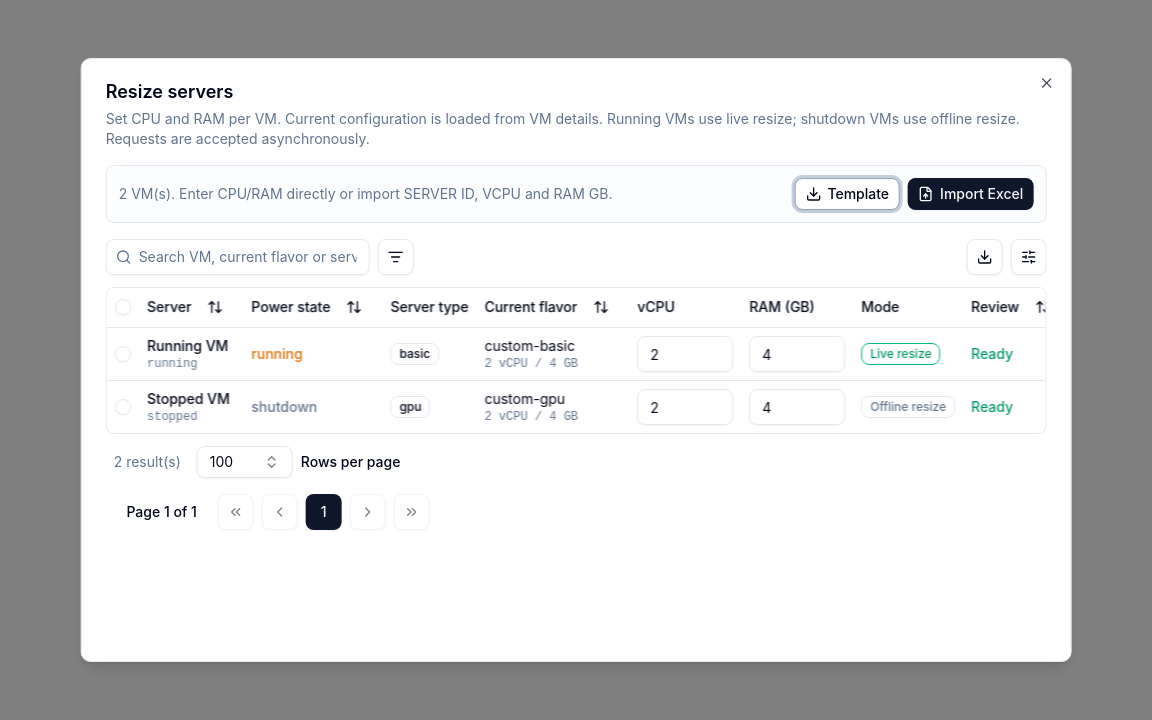
Test: submits custom specs with live and offline modes only after confirmation
Expected: the text "Live resize" is shown, [861,343,940,365]
Expected: the text "Offline resize" is shown, [861,396,955,418]
Replace the text in the number field named "ram for Running VM" with "6" at (797, 354), box [749,336,845,372]
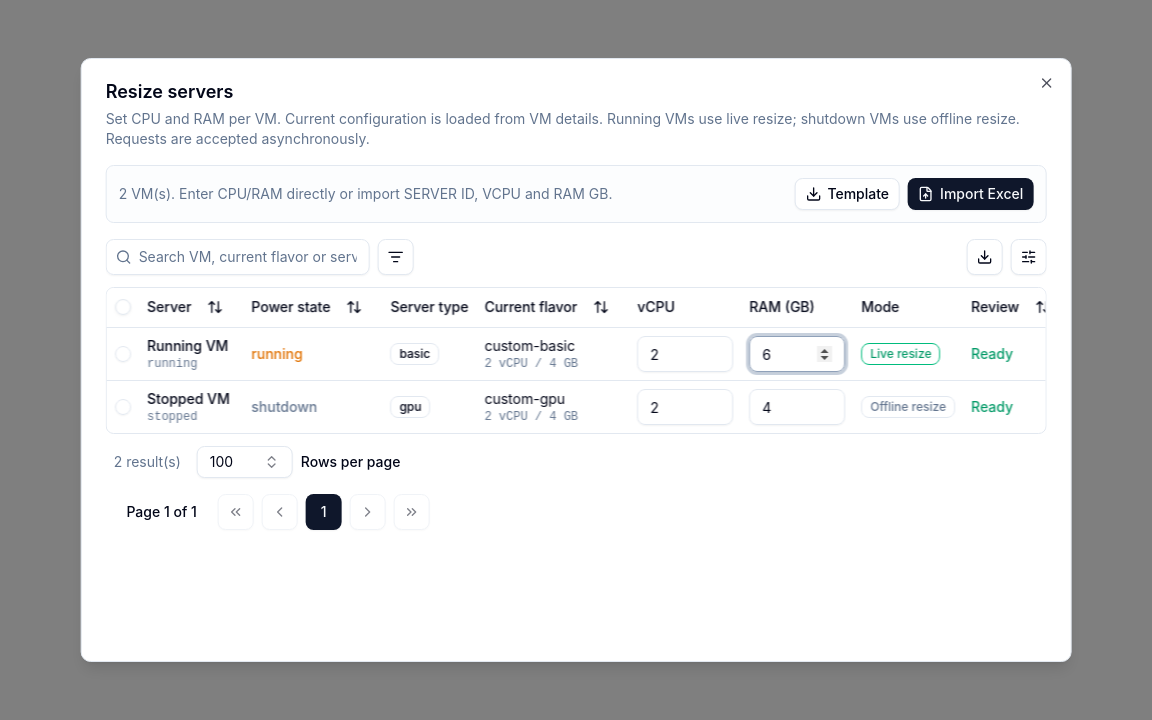
Replace the text in the number field named "ram for Stopped VM" with "6" at (797, 407), box [749,389,845,425]
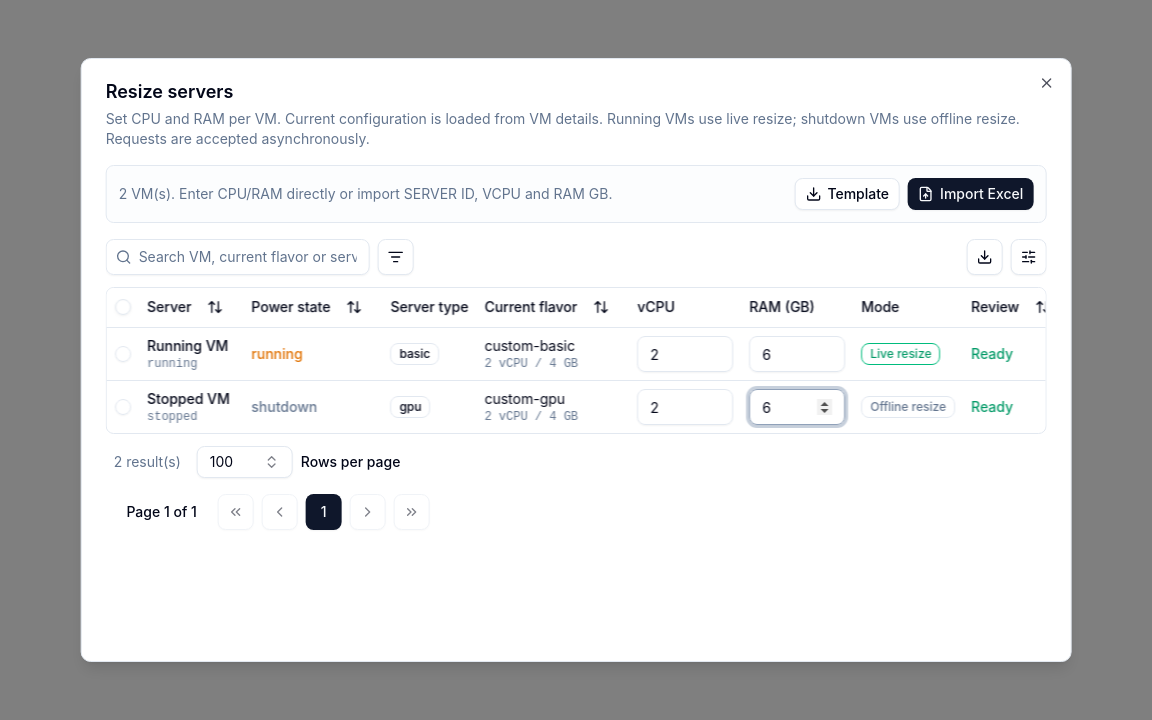
Click the checkbox named "Select all rows" at (123, 307), box [115,299,131,315]
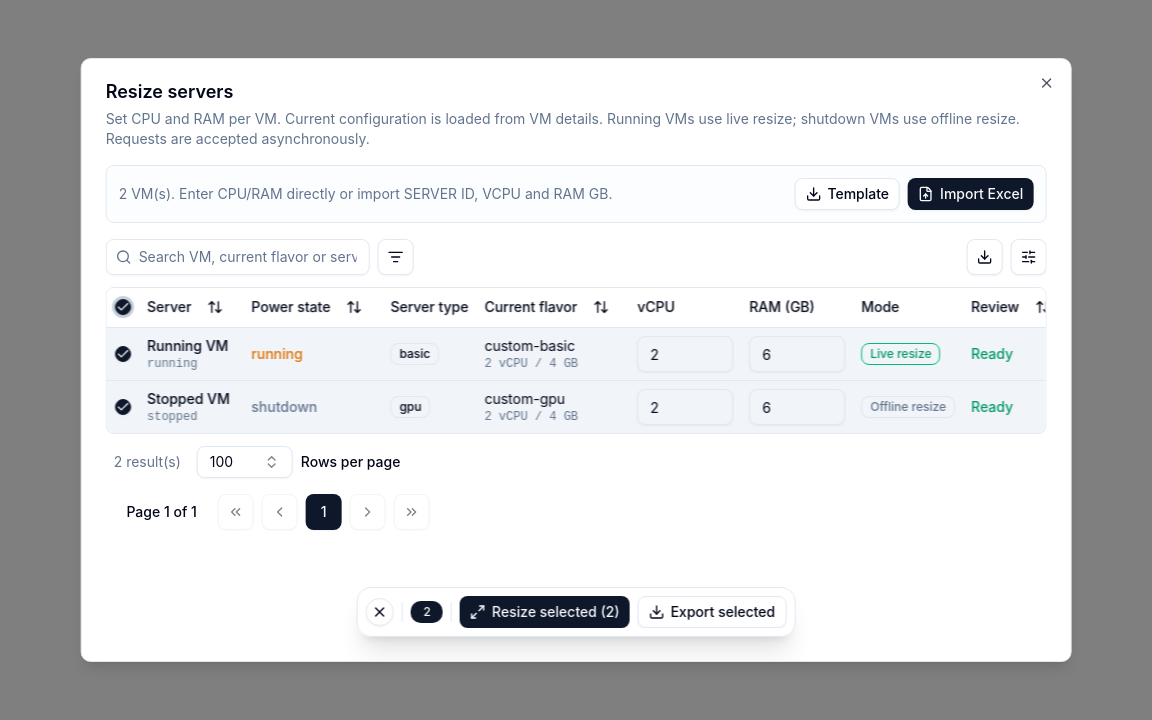
Click the button "Resize selected (2)" at (545, 612), box [460,596,629,628]
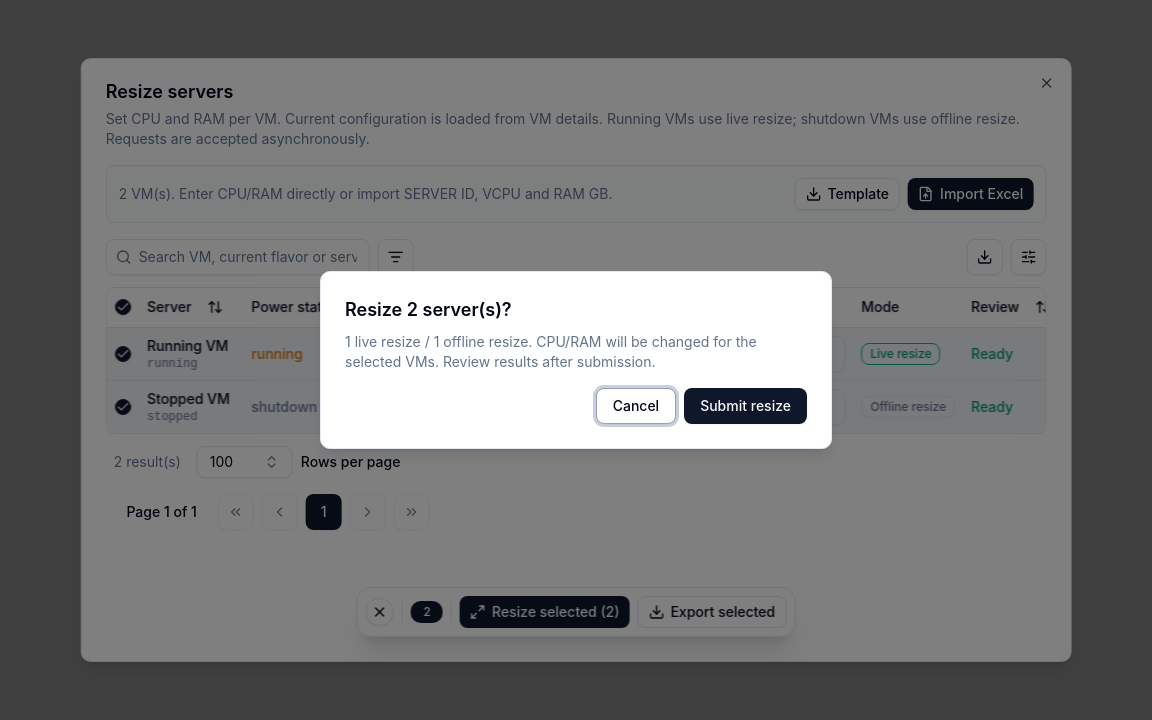
Click the button "Submit resize" at (746, 406), box [684,388,807,424]
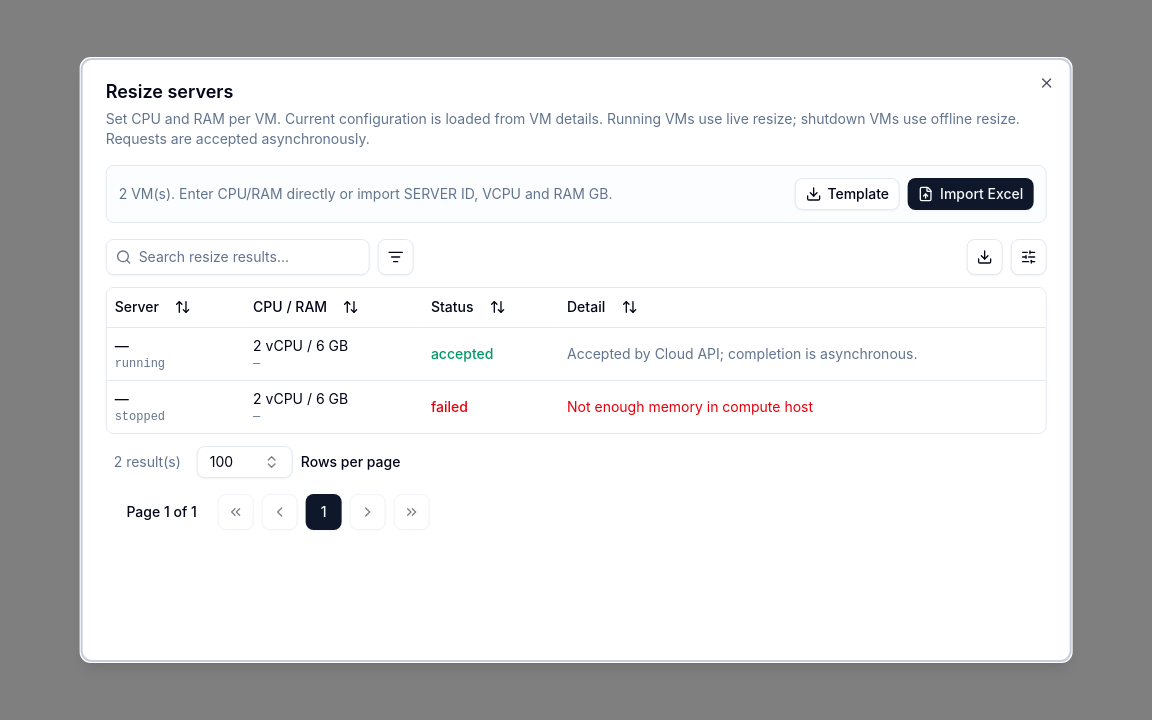
Expected: the text "Not enough memory in compute host" is shown, [567,398,813,415]
